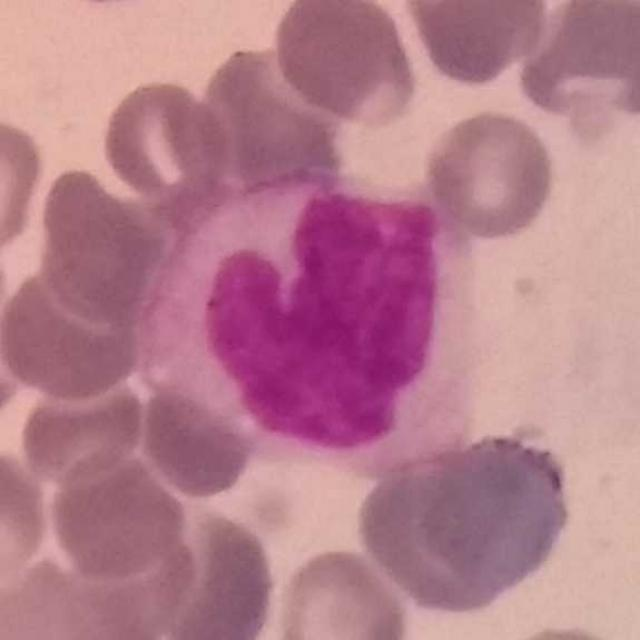mono: (128, 162, 481, 478)
